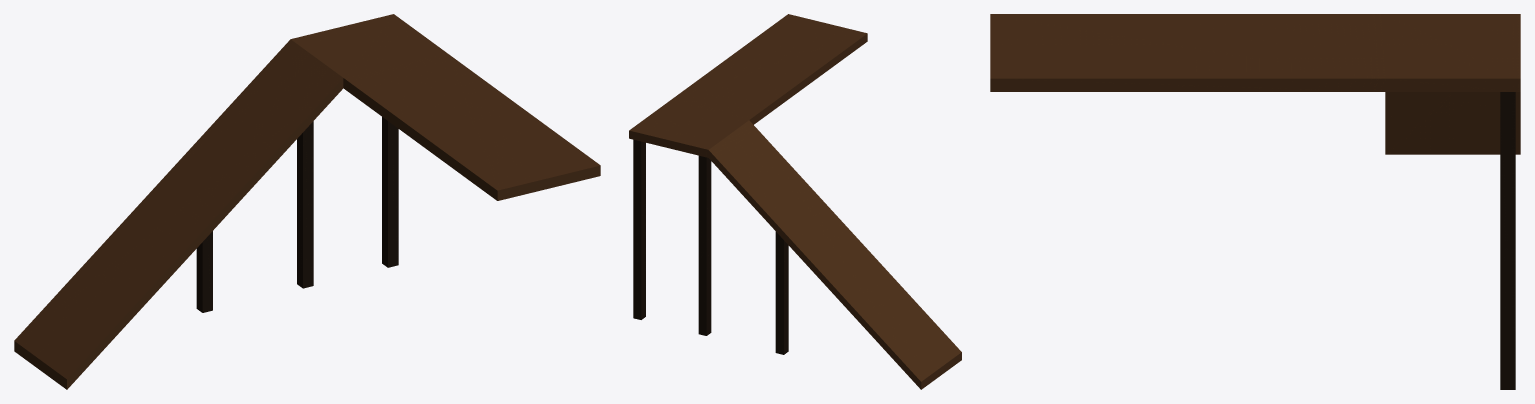
File: stairs-container.glb
3 renders of one model, left to right at view 1: azimuth 30°, elevation 25°; view 2: azimuth 150°, elevation 25°; view 3: azimuth 270°, elevation 25°, orthographic. The views are drawn at different scales.
Parts seen in each view (by area): view 1: Container Stairs; view 2: Container Stairs; view 3: Container Stairs.
Boxes of the visible parts, <box> form: Container Stairs: <box>14,14,600,389</box>; Container Stairs: <box>629,14,961,389</box>; Container Stairs: <box>990,14,1520,389</box>.
Size of the model in its own units: 4.41 by 2.72 by 4.17.
Materials: 1 (1 with a texture image).
